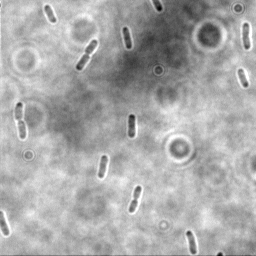Dividing: (75, 39, 99, 72), (13, 102, 28, 141), (127, 185, 142, 215), (240, 22, 251, 52)
Rod: (185, 229, 199, 255), (97, 154, 109, 180), (121, 26, 133, 50), (43, 4, 57, 24), (1, 210, 11, 237), (236, 68, 249, 88), (127, 113, 136, 138)
